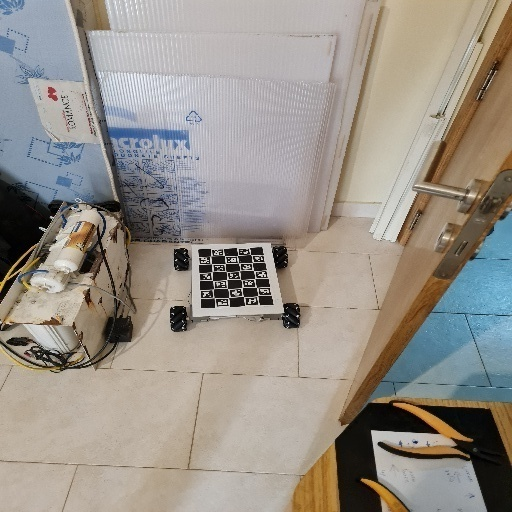Omniwheel: (172, 241, 303, 330)
